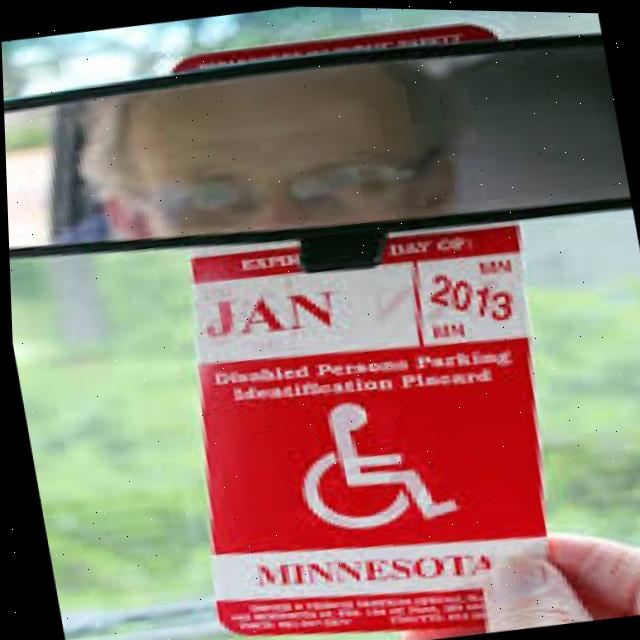symbol_of_access: (271, 378, 466, 550)
